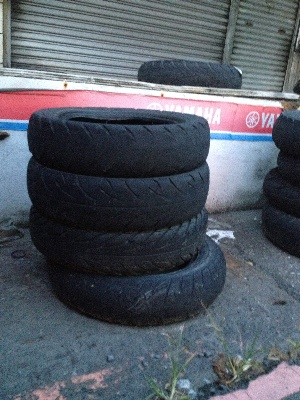tire: (43, 233, 227, 326), (25, 155, 214, 229), (27, 103, 212, 178), (27, 204, 209, 275), (137, 59, 244, 90)
